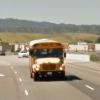Bus: (23, 35, 69, 85)
